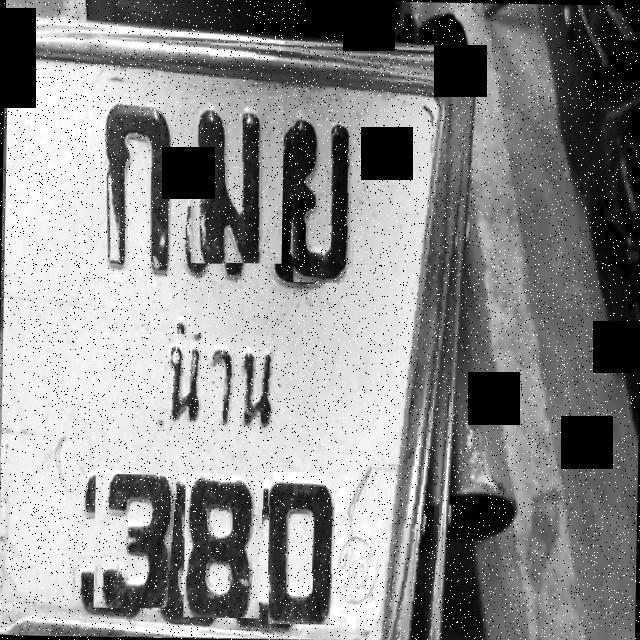letters: (186, 93, 284, 264), (92, 95, 174, 287), (288, 104, 356, 282), (183, 473, 264, 618), (92, 474, 178, 608), (266, 472, 335, 624)
license-plate: (0, 34, 470, 640)
province: (91, 332, 321, 446)
